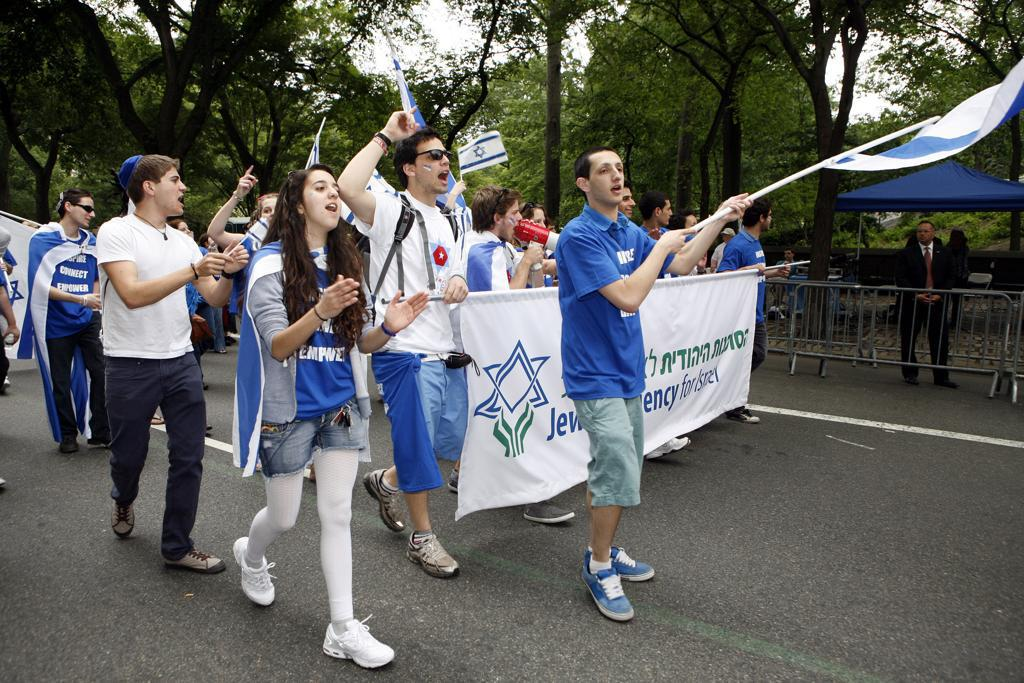face: (302, 172, 342, 229), (585, 153, 625, 205), (417, 140, 452, 194), (152, 164, 187, 217), (499, 197, 522, 243), (263, 197, 287, 236), (529, 208, 549, 249), (72, 195, 96, 229), (615, 187, 637, 220), (686, 213, 700, 243), (657, 200, 672, 227), (917, 225, 934, 242), (179, 223, 193, 243), (761, 208, 772, 231), (205, 236, 216, 251), (953, 239, 963, 248), (724, 234, 732, 245), (784, 252, 792, 262)
